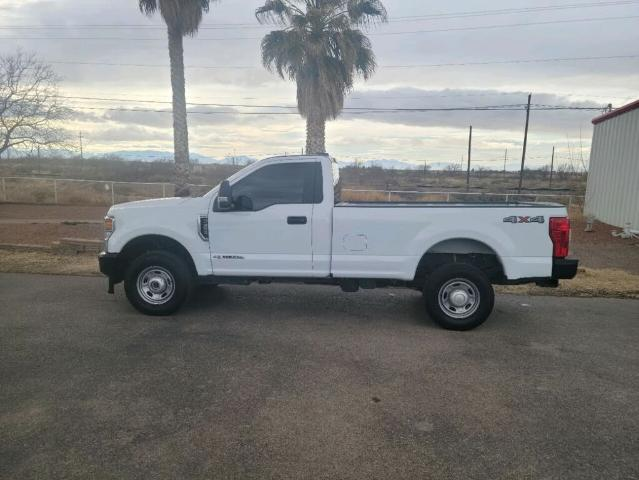pickup-truck: (98, 153, 580, 332)
